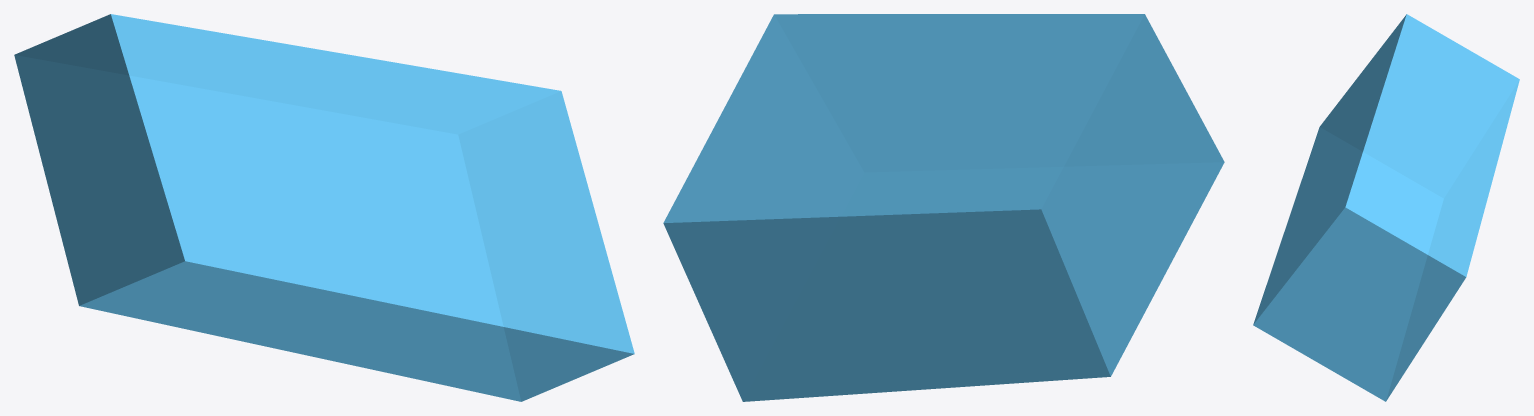
Rendered from Event_421127236_HErechit_35.fbx.
3 views of the same model, side by side, from view 1: azimuth 30°, elevation 25°; view 2: azimuth 150°, elevation 25°; view 3: azimuth 270°, elevation 25° (orthographic). The views are drawn at different scales.
Visible parts, largest first — view 1: Model; view 2: Model; view 3: Model.
Boxes of the visible parts, box(x1,y1,x2,y2) form: Model: box(14, 14, 634, 401); Model: box(663, 14, 1224, 401); Model: box(1253, 14, 1519, 401).
Size of the model in its own units: 0.7714 by 0.8712 by 0.7643.
